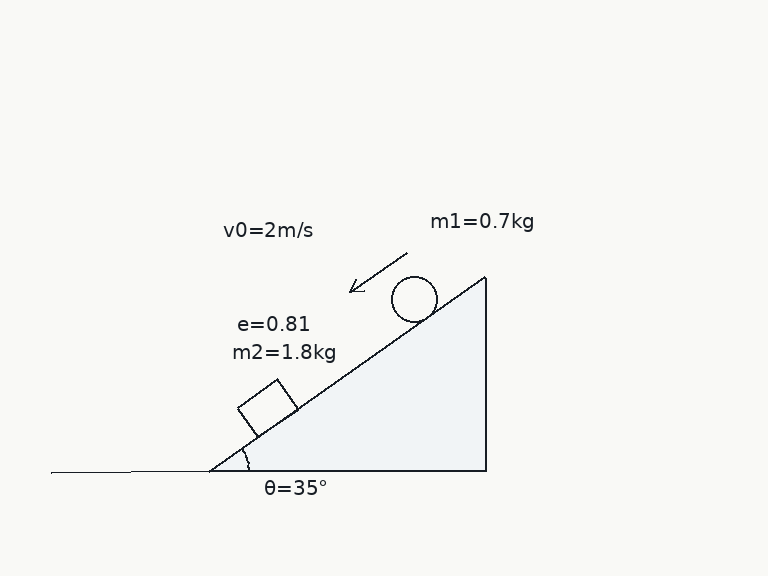ball: (389, 274, 439, 324)
block: (235, 378, 300, 439)
ramp: (207, 276, 487, 473)
